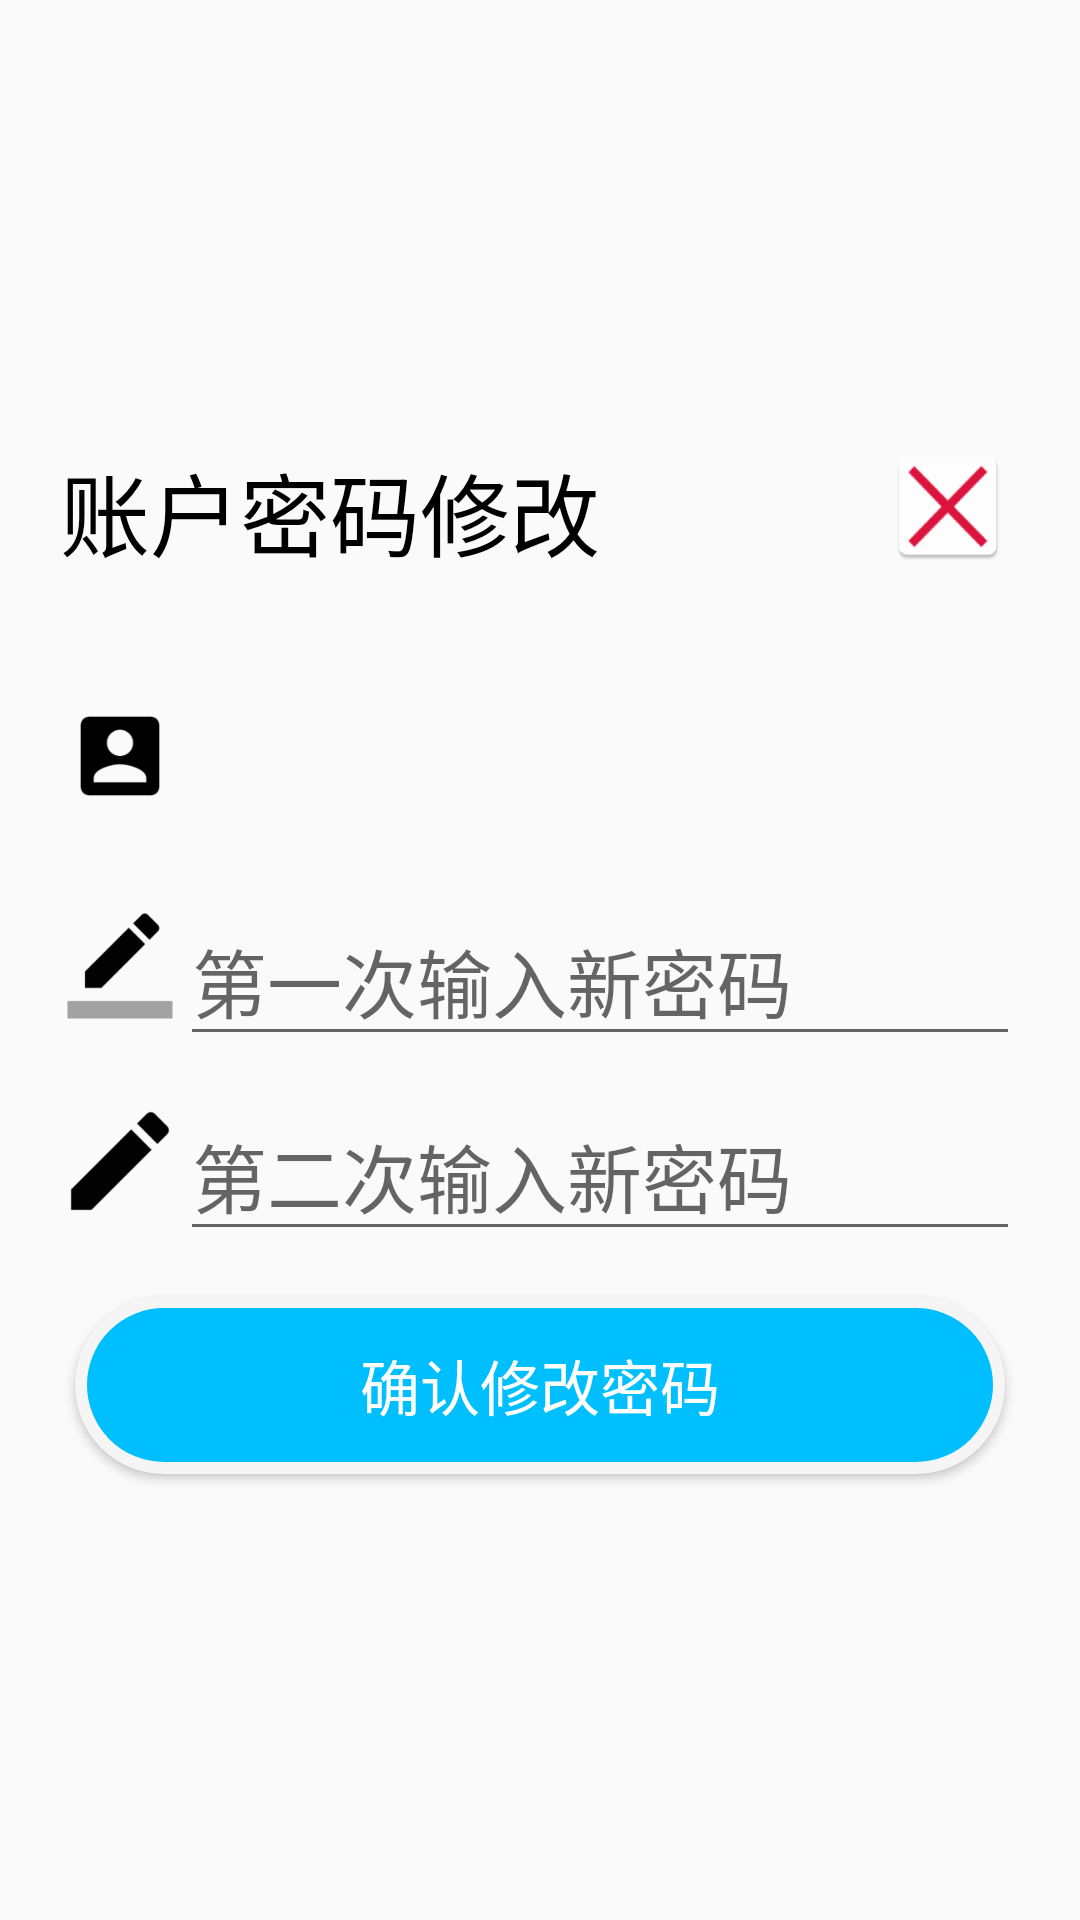

Point at icon controls on the screen. Image size 1080×1920, points as (x,y).
close: (948,512)
user: (120,756)
